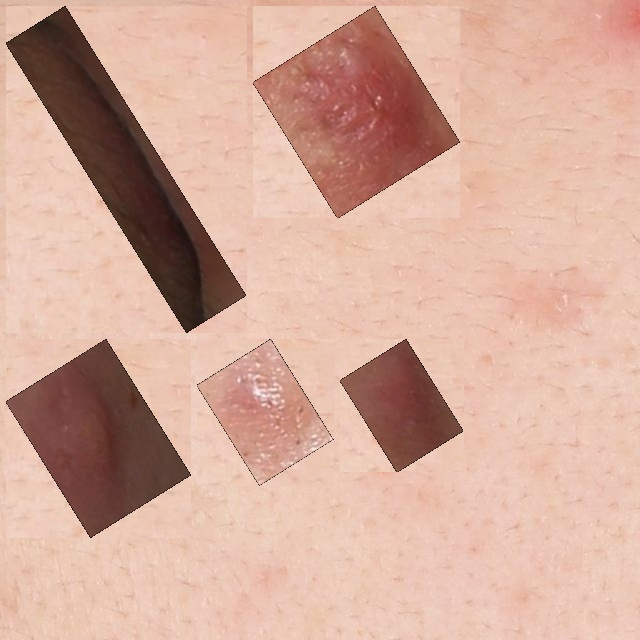nodule: (17, 17, 235, 321), (264, 17, 449, 207), (17, 350, 180, 526), (208, 350, 322, 474), (351, 350, 452, 461)
